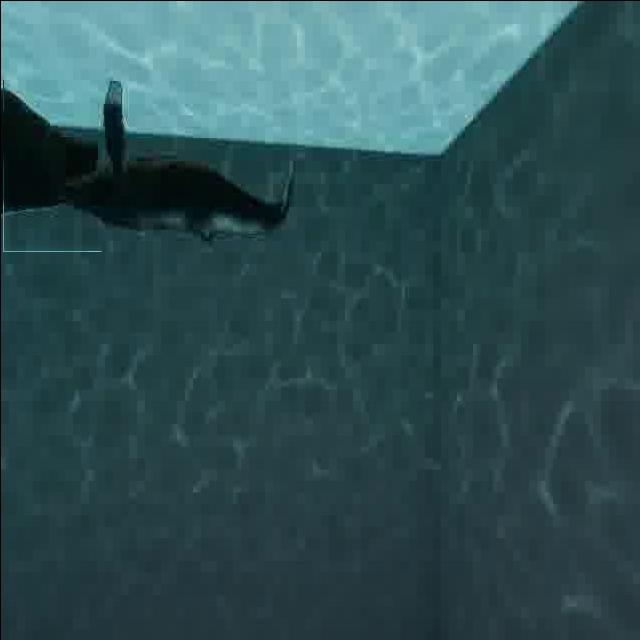Whale: (62, 89, 305, 264), (2, 79, 101, 251)
